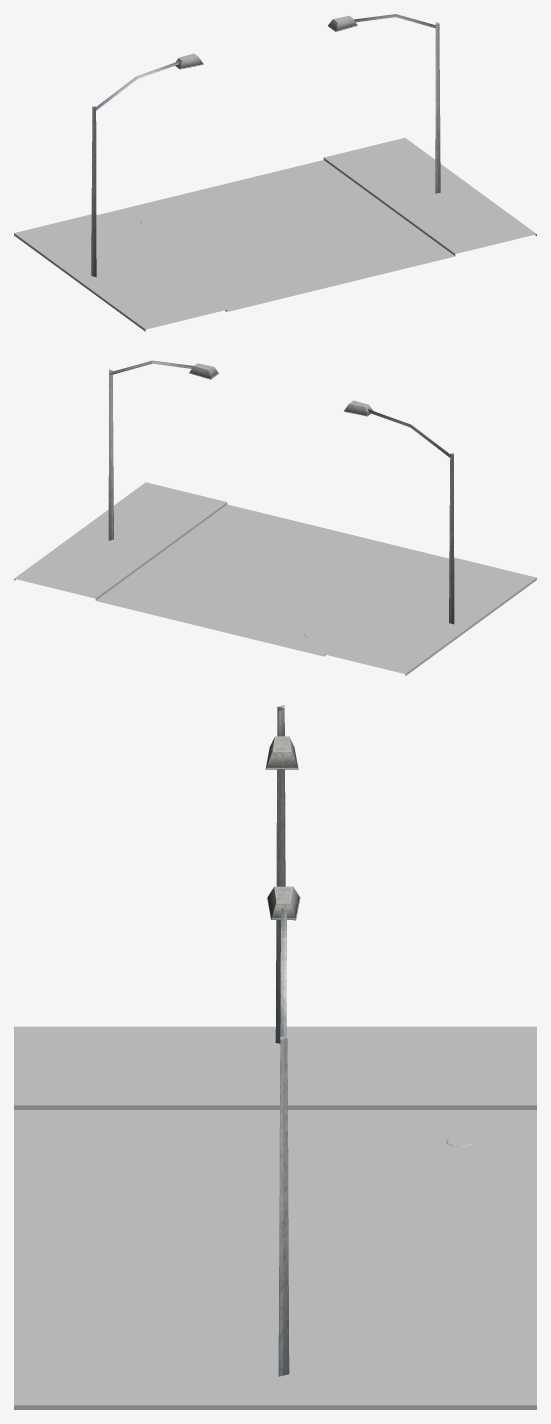
File: Road2_Part_07_C.fbx
3 views of the same model, one above another, from view 1: azimuth 30°, elevation 25°; view 2: azimuth 150°, elevation 25°; view 3: azimuth 270°, elevation 25° (orthographic). The views are drawn at different scales.
Parts seen in each view (by area): view 1: Model_Road2_Part_07_C, LampPost55, LampPost01; view 2: Model_Road2_Part_07_C, LampPost55, LampPost01; view 3: Model_Road2_Part_07_C, LampPost01, LampPost55.
Boxes of the visible parts, x1,y1,x2,y2 form: Model_Road2_Part_07_C: (14, 138, 536, 331); LampPost55: (91, 53, 203, 277); LampPost01: (328, 14, 440, 193); Model_Road2_Part_07_C: (14, 482, 536, 675); LampPost55: (344, 400, 454, 624); LampPost01: (108, 360, 218, 540); Model_Road2_Part_07_C: (14, 1026, 536, 1409); LampPost01: (267, 886, 300, 1376); LampPost55: (265, 705, 298, 1043).
Size of the model in its own units: 944 by 458 by 551.
